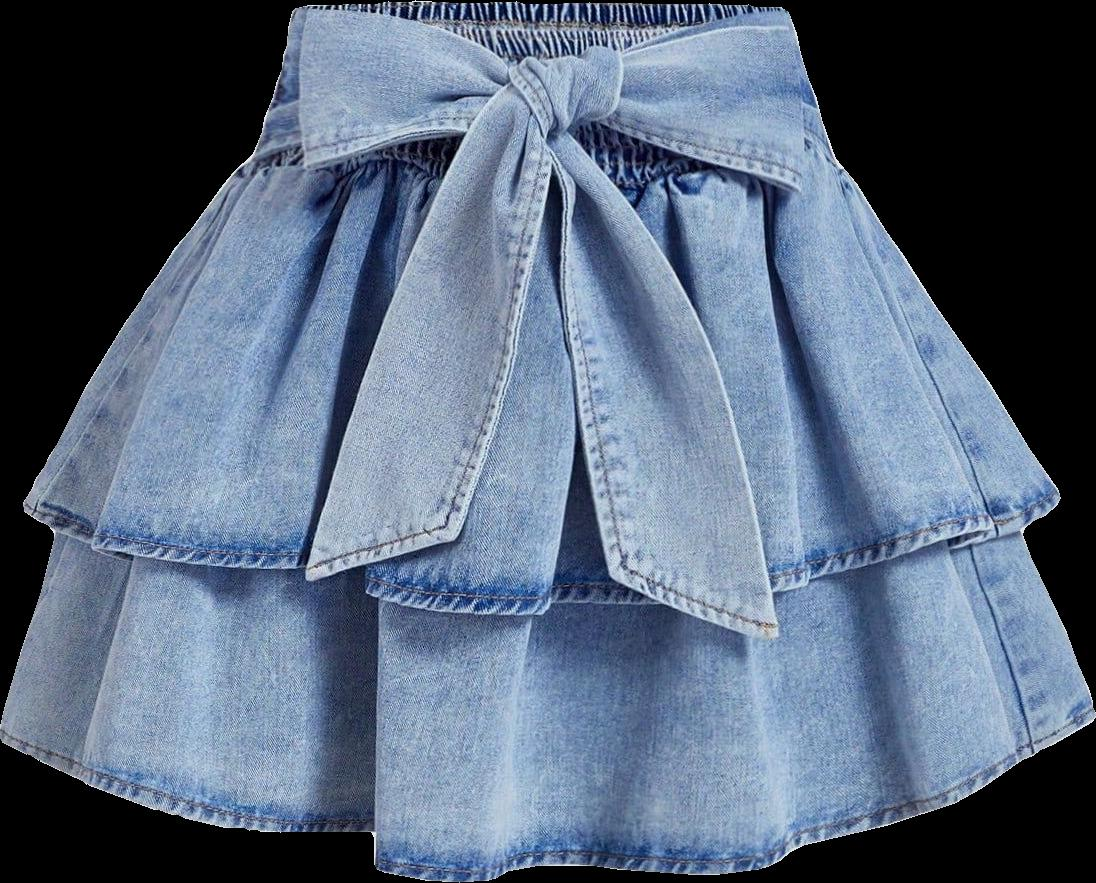Hemline: (0, 717, 1095, 882), (21, 494, 1065, 619)
Waistline: (291, 3, 783, 79), (219, 156, 844, 195)
